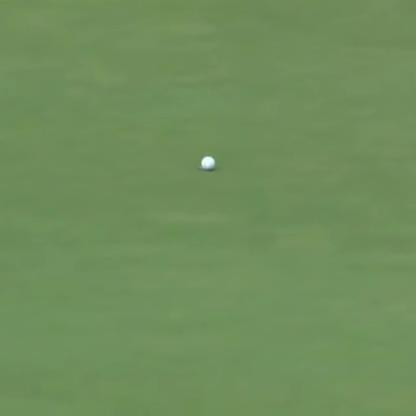golfball: (200, 151, 216, 169)
